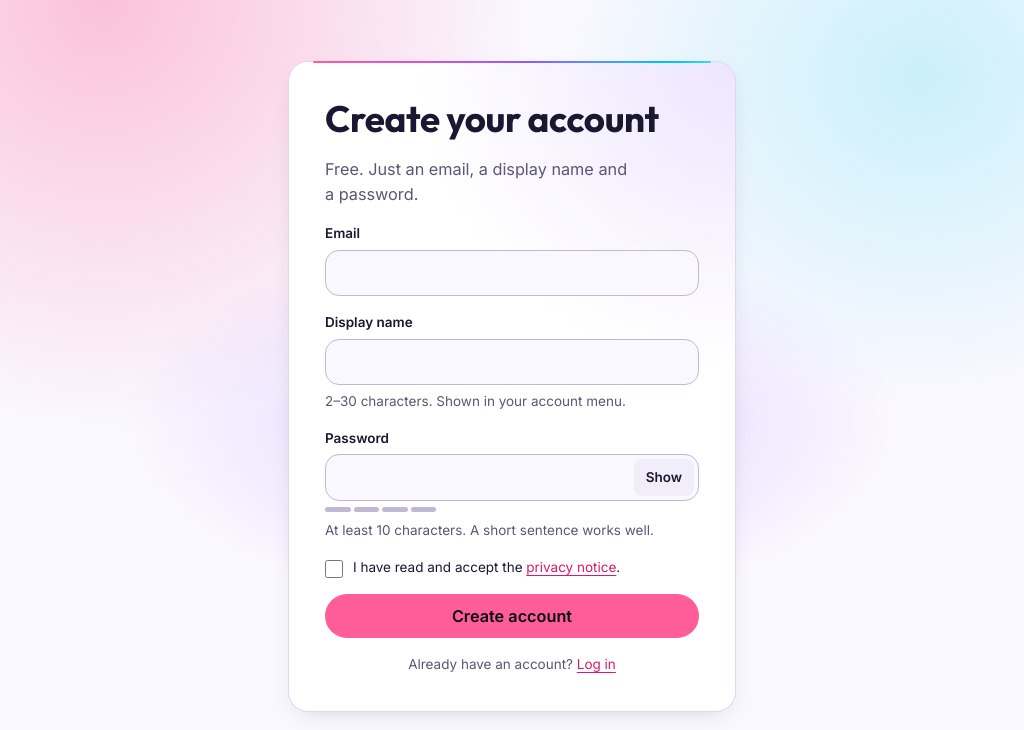
Test: Register form › requires the privacy consent
Type "ana@example.com" into the field labelled "Email" at (512, 273), box x1=325 y1=250 x2=699 y2=296
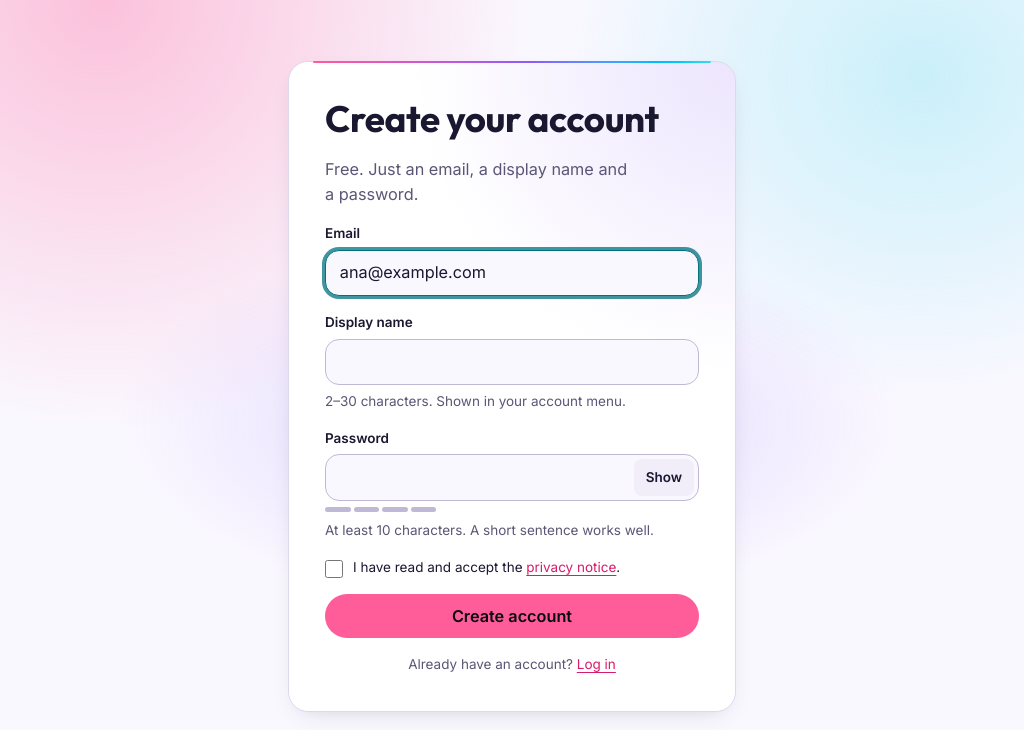
Type "Ana" into the field labelled "Display name" at (512, 362), box x1=325 y1=339 x2=699 y2=386
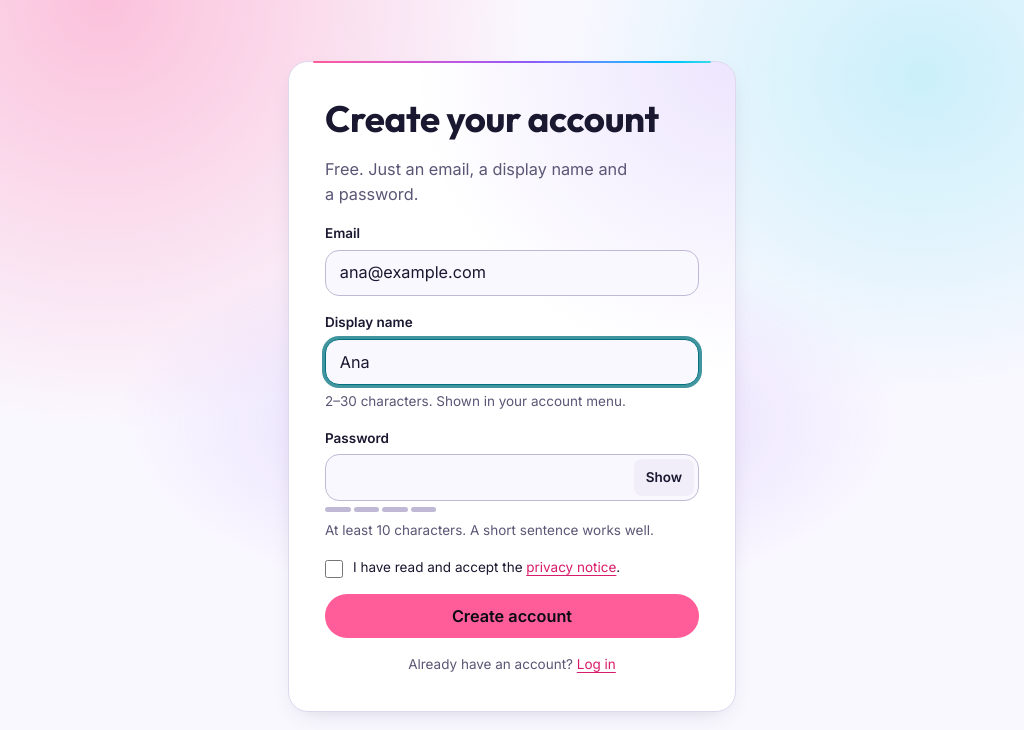
Type "a-long-password" into the password field labelled "Password" at (512, 478), box x1=325 y1=454 x2=699 y2=501
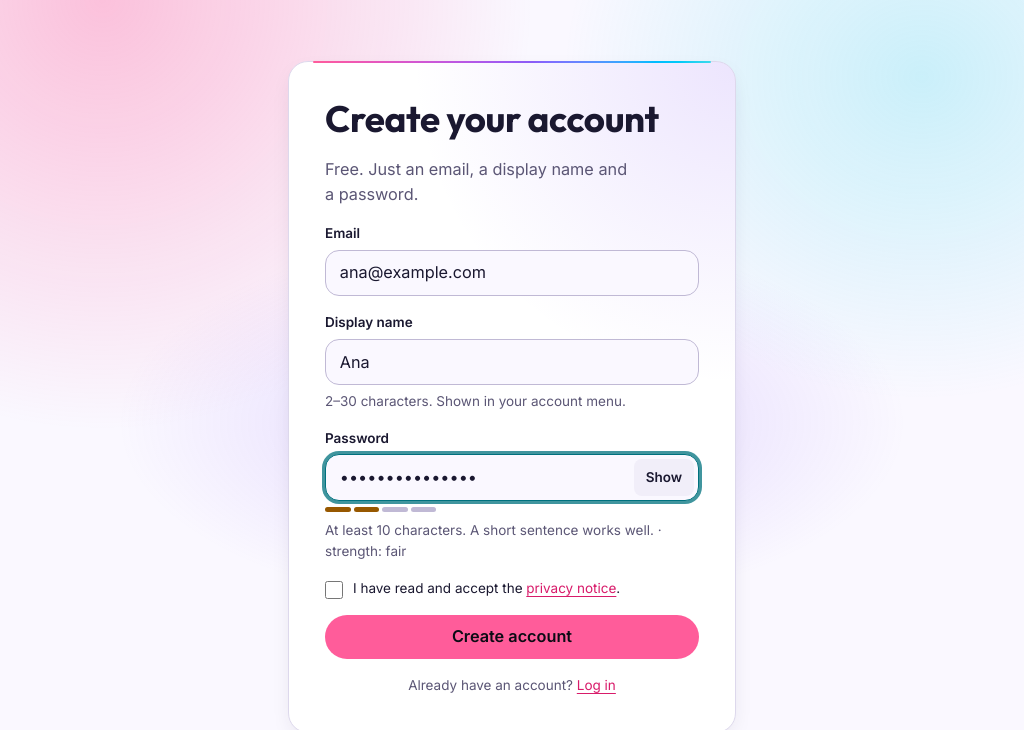
Click the button "Create account" at (512, 637), box x1=325 y1=615 x2=699 y2=659
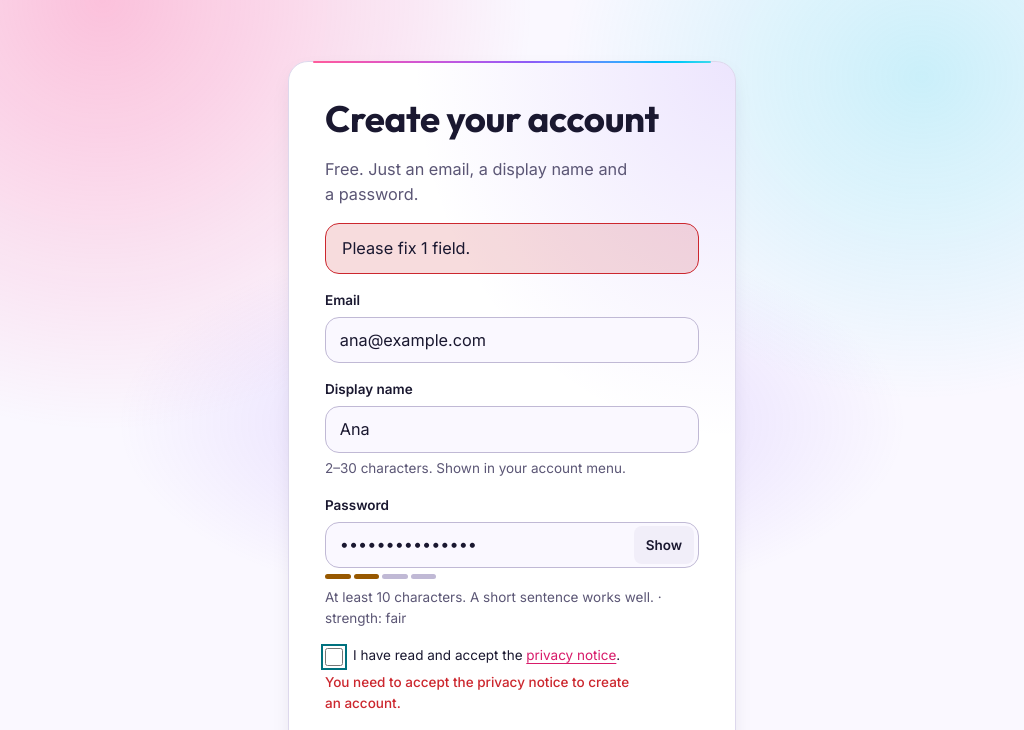
Now the text "You need to accept the privacy notice to create an account." is shown, box x1=325 y1=674 x2=629 y2=711
